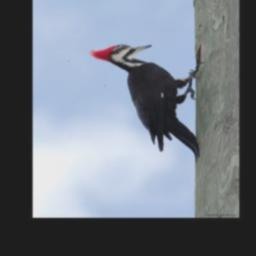Woodpecker: (89, 43, 204, 161)
